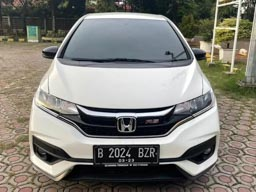plat: (95, 144, 161, 158)
